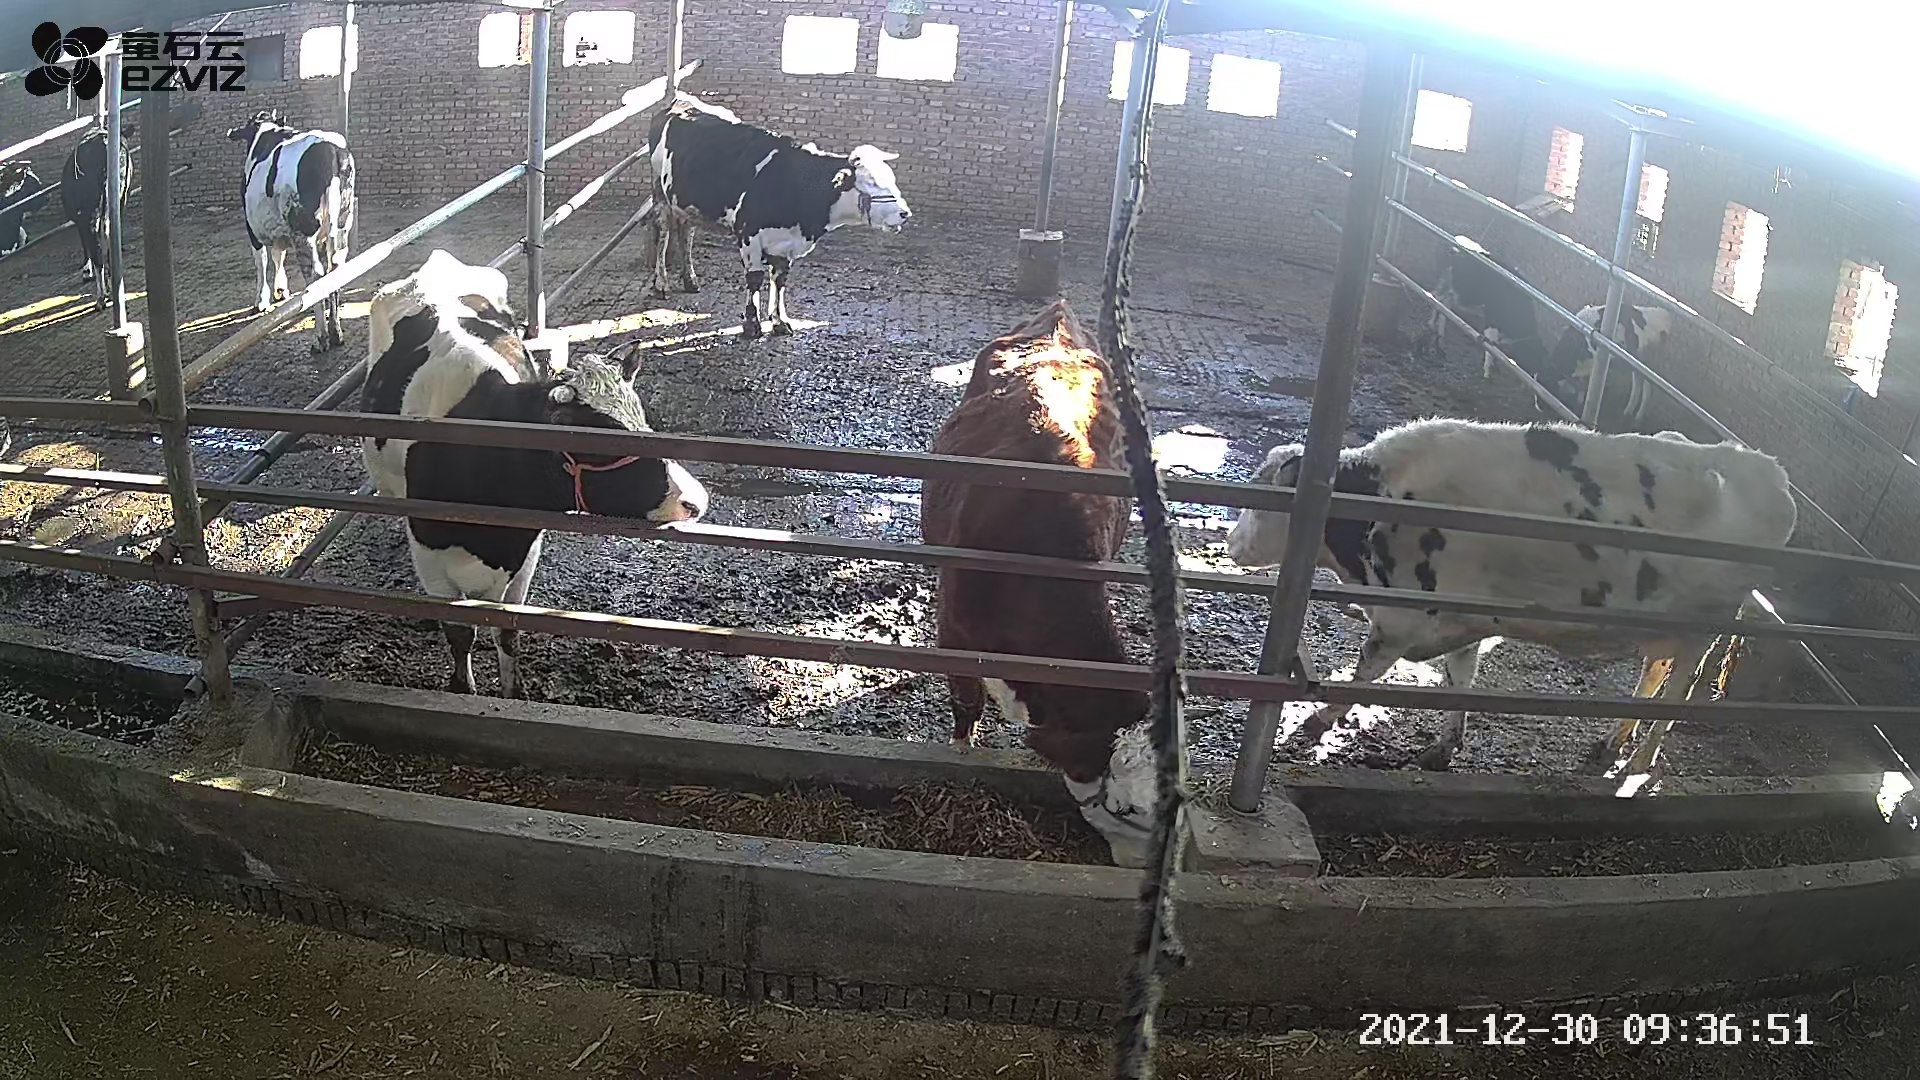cow: (1222, 417, 1797, 775), (357, 251, 711, 702), (916, 291, 1188, 870), (647, 84, 914, 342)
